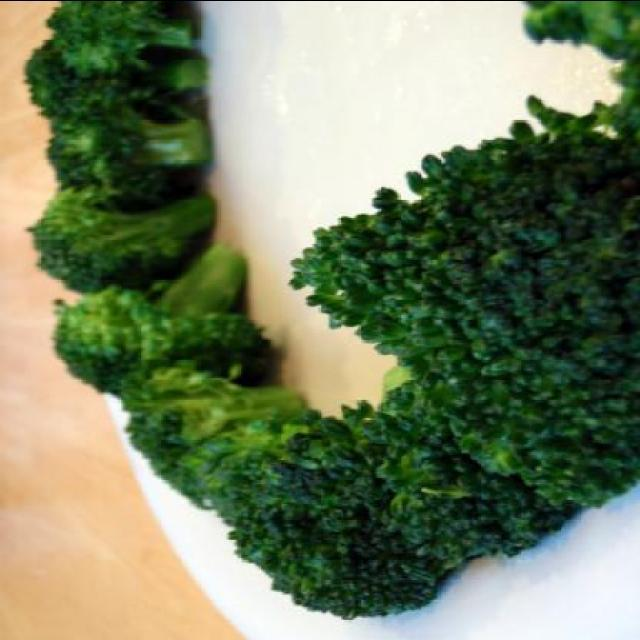Broccoli: (27, 0, 638, 618)
